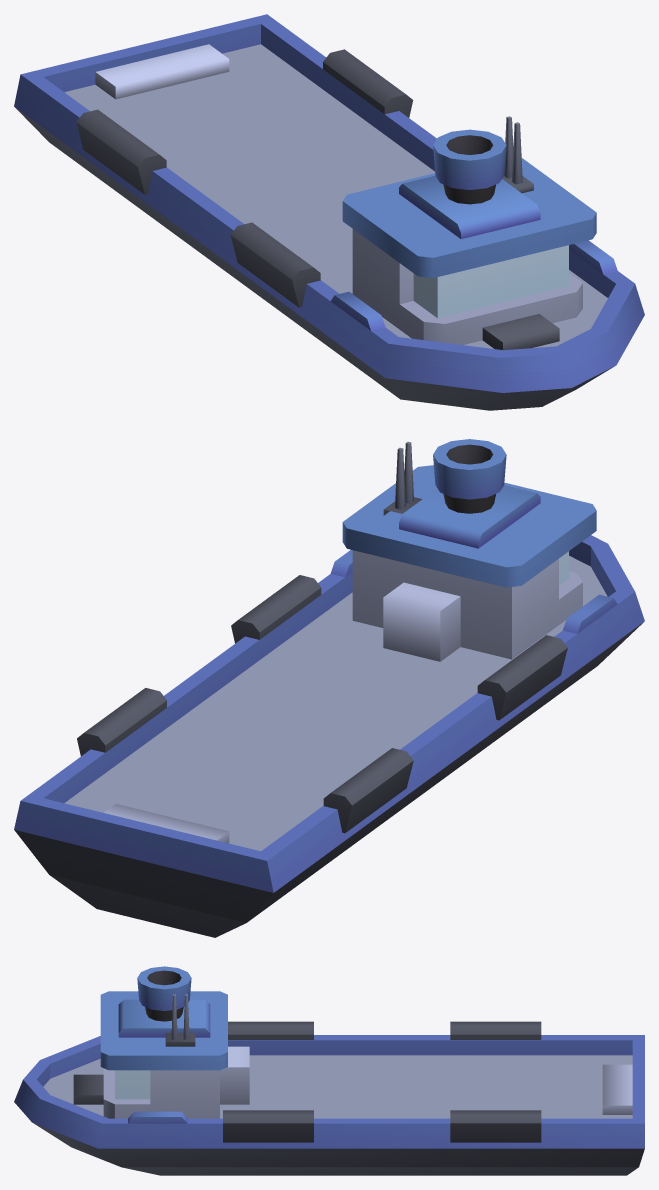
Rendered from destroyer.glb.
3 renders of one model, top to bottom at view 1: azimuth 30°, elevation 25°; view 2: azimuth 150°, elevation 25°; view 3: azimuth 270°, elevation 25°, orthographic. The views are drawn at different scales.
Visible parts, largest first — view 1: destroyer; view 2: destroyer; view 3: destroyer.
Boxes of the visible parts, left/top/right/bottom form: destroyer: left=14, top=14, right=644, bottom=410; destroyer: left=14, top=439, right=644, bottom=937; destroyer: left=14, top=966, right=644, bottom=1175.
Size of the model in its own units: 1.29 by 1.09 by 3.47.
Materials: 1 (1 with a texture image).
